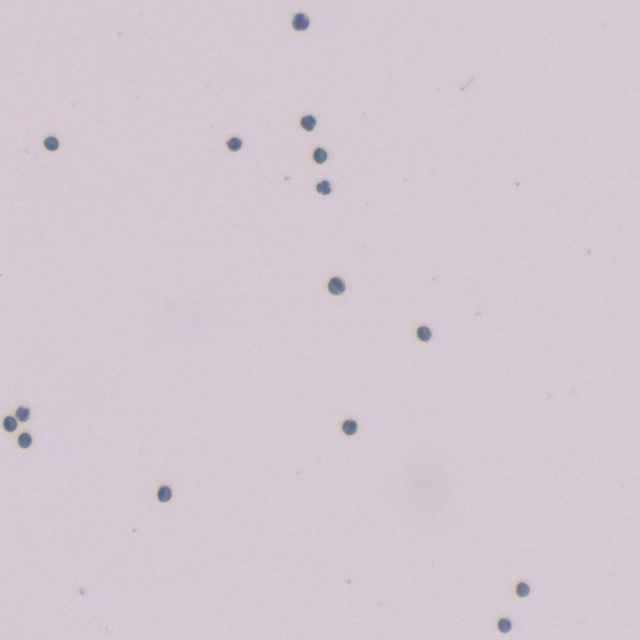non_viable: (292, 13, 308, 30), (328, 277, 344, 294), (17, 432, 32, 448), (300, 115, 315, 130), (157, 486, 171, 501), (15, 406, 29, 421), (316, 180, 330, 194), (342, 420, 356, 434), (44, 136, 58, 150), (313, 148, 326, 163), (417, 326, 430, 341), (227, 137, 241, 150), (516, 582, 529, 596), (498, 618, 511, 632), (4, 417, 15, 429)
